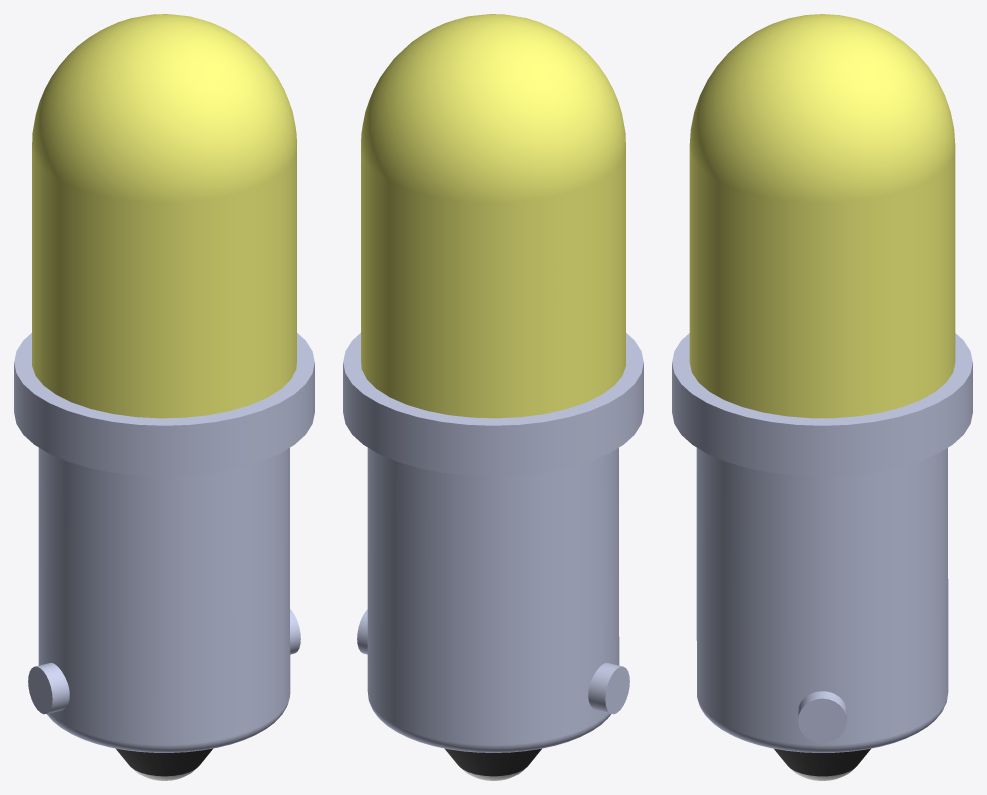
The model's file is LED Bulb.fbx.
The picture shows the model from 3 angles, left to right: view 1: azimuth 30°, elevation 25°; view 2: azimuth 150°, elevation 25°; view 3: azimuth 270°, elevation 25°; orthographic projection.
Visible parts, largest first — view 1: Led_bulb; view 2: Led_bulb; view 3: Led_bulb.
Part boxes in pixels (left/top/right/bottom): Led_bulb: left=14, top=14, right=314, bottom=780; Led_bulb: left=343, top=14, right=643, bottom=780; Led_bulb: left=672, top=14, right=972, bottom=780.
Bounding box in the file's own units: 1.09 × 3 × 1.09.
